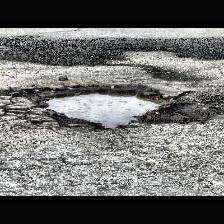pothole: (24, 80, 172, 130)
